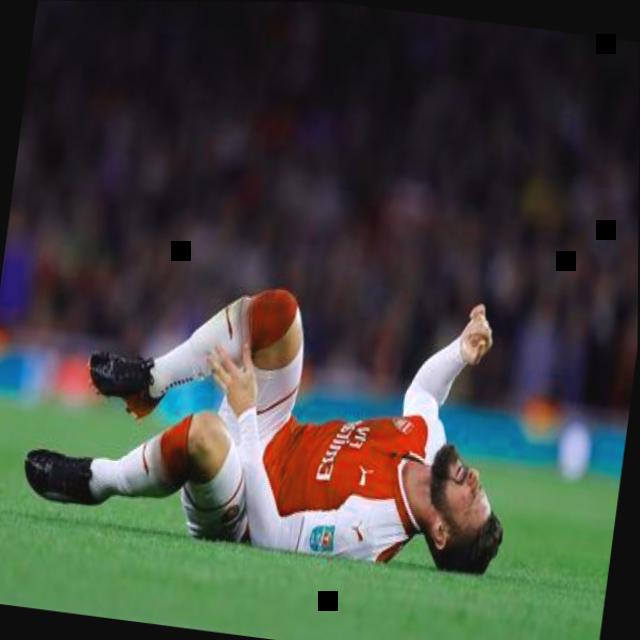Fall-Detected: (11, 229, 534, 579)
